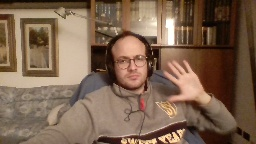Mano_aperta: (159, 58, 204, 102)
